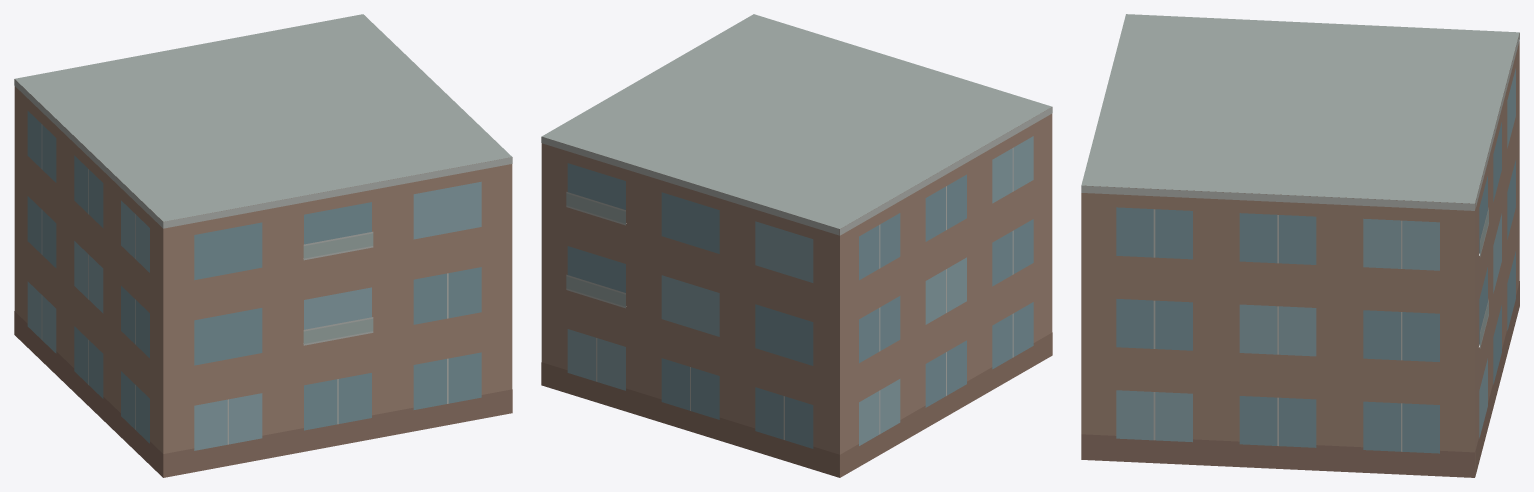
File: survey-upis-32834729.glb
3 views of the same model, side by side, from view 1: azimuth 30°, elevation 25°; view 2: azimuth 150°, elevation 25°; view 3: azimuth 270°, elevation 25° (orthographic). The views are drawn at different scales.
Parts seen in each view (by area): view 1: survey-upis-32834729.tmp; view 2: survey-upis-32834729.tmp; view 3: survey-upis-32834729.tmp.
Part boxes in pixels (box(x1,y1,x2,y2)): survey-upis-32834729.tmp: box(14, 14, 512, 477); survey-upis-32834729.tmp: box(541, 14, 1052, 477); survey-upis-32834729.tmp: box(1081, 14, 1519, 477).
Bounding box in the file's own units: 13.58 × 9.15 × 13.27.
